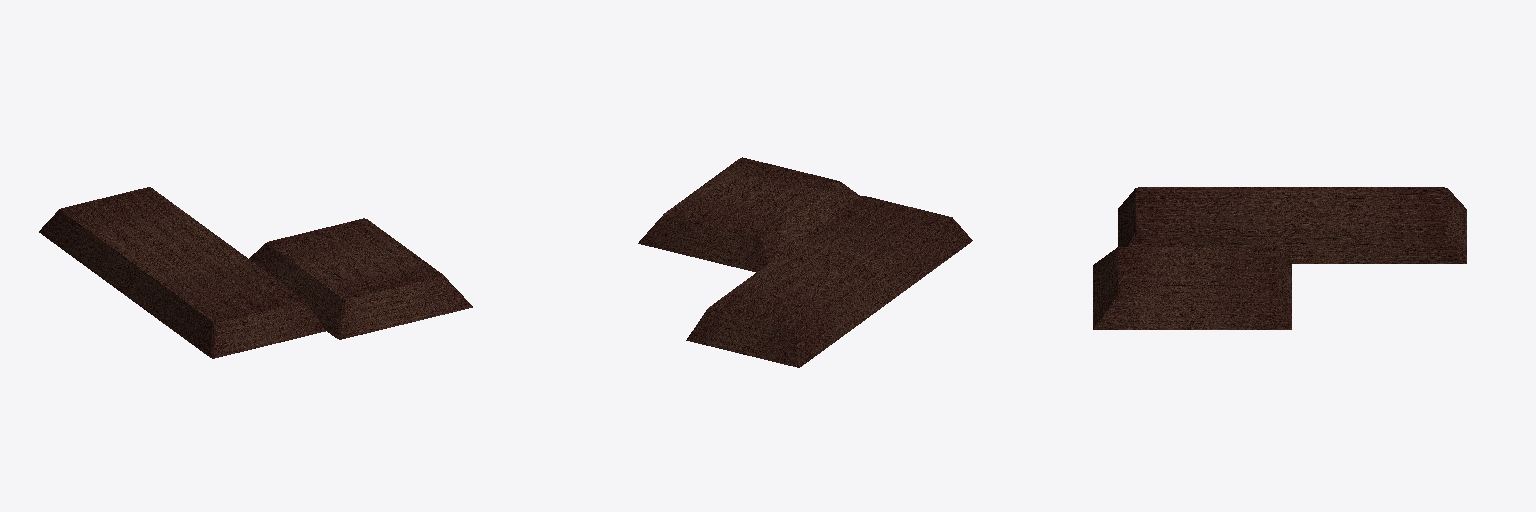
3 views of the same model, side by side, from view 1: azimuth 30°, elevation 25°; view 2: azimuth 150°, elevation 25°; view 3: azimuth 270°, elevation 25° (orthographic).
Parts seen in each view (by area): view 1: Cube.002_Cube.006; view 2: Cube.002_Cube.006; view 3: Cube.002_Cube.006.
Part boxes in pixels (left/top/right/bottom): Cube.002_Cube.006: left=39, top=187, right=472, bottom=358; Cube.002_Cube.006: left=638, top=157, right=972, bottom=367; Cube.002_Cube.006: left=1093, top=187, right=1466, bottom=329.
Size of the model in its own units: 64.65 by 6.63 by 83.75.
1 materials, 1 textured.